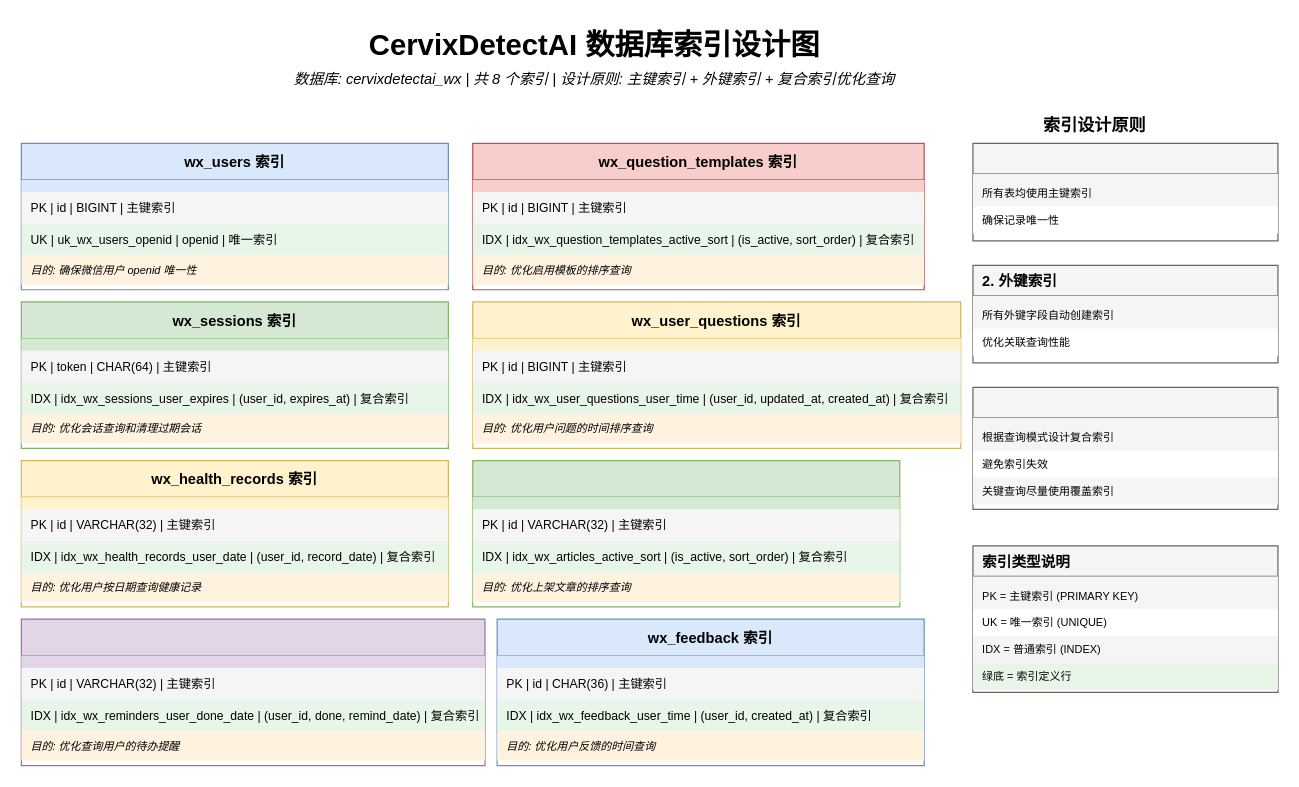
Image size: 1299x787. Some labels were removed from this diagram. Each missing label, with the box of its shape:
1. 主键索引: (972, 142, 1278, 241)
3. 复合索引: (972, 386, 1278, 509)
wx_articles 索引: (472, 459, 900, 607)
wx_reminders 索引: (20, 618, 485, 766)
